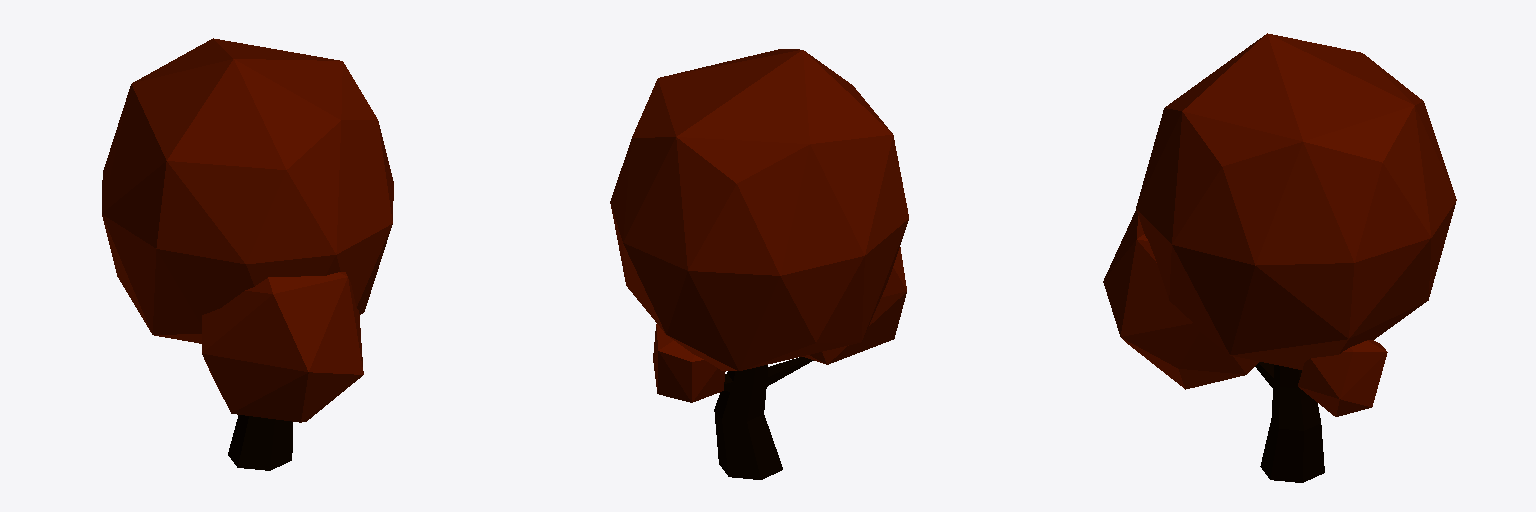
The model's file is tree9.obj.
3 views of the same model, side by side, from view 1: azimuth 30°, elevation 25°; view 2: azimuth 150°, elevation 25°; view 3: azimuth 270°, elevation 25° (orthographic).
Visible parts, largest first — view 1: Icosphere.007_Icosphere.010, Cylinder.008_Cylinder.005; view 2: Icosphere.007_Icosphere.010, Cylinder.008_Cylinder.005; view 3: Icosphere.007_Icosphere.010, Cylinder.008_Cylinder.005.
Part boxes in pixels (x1,y1,x2,y2): Icosphere.007_Icosphere.010: (102, 38, 393, 422); Cylinder.008_Cylinder.005: (228, 415, 292, 470); Icosphere.007_Icosphere.010: (610, 49, 908, 402); Cylinder.008_Cylinder.005: (714, 357, 813, 479); Icosphere.007_Icosphere.010: (1103, 33, 1456, 416); Cylinder.008_Cylinder.005: (1255, 362, 1324, 482).
Bounding box in the file's own units: 10.08 × 15.99 × 12.28.